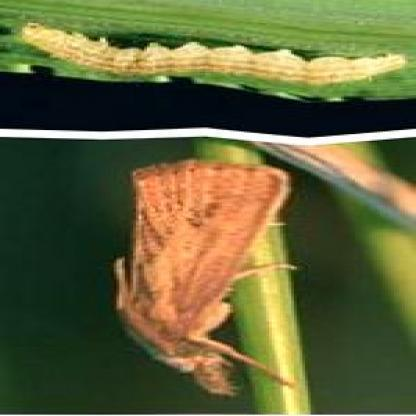stem-borer: (106, 158, 298, 397)
